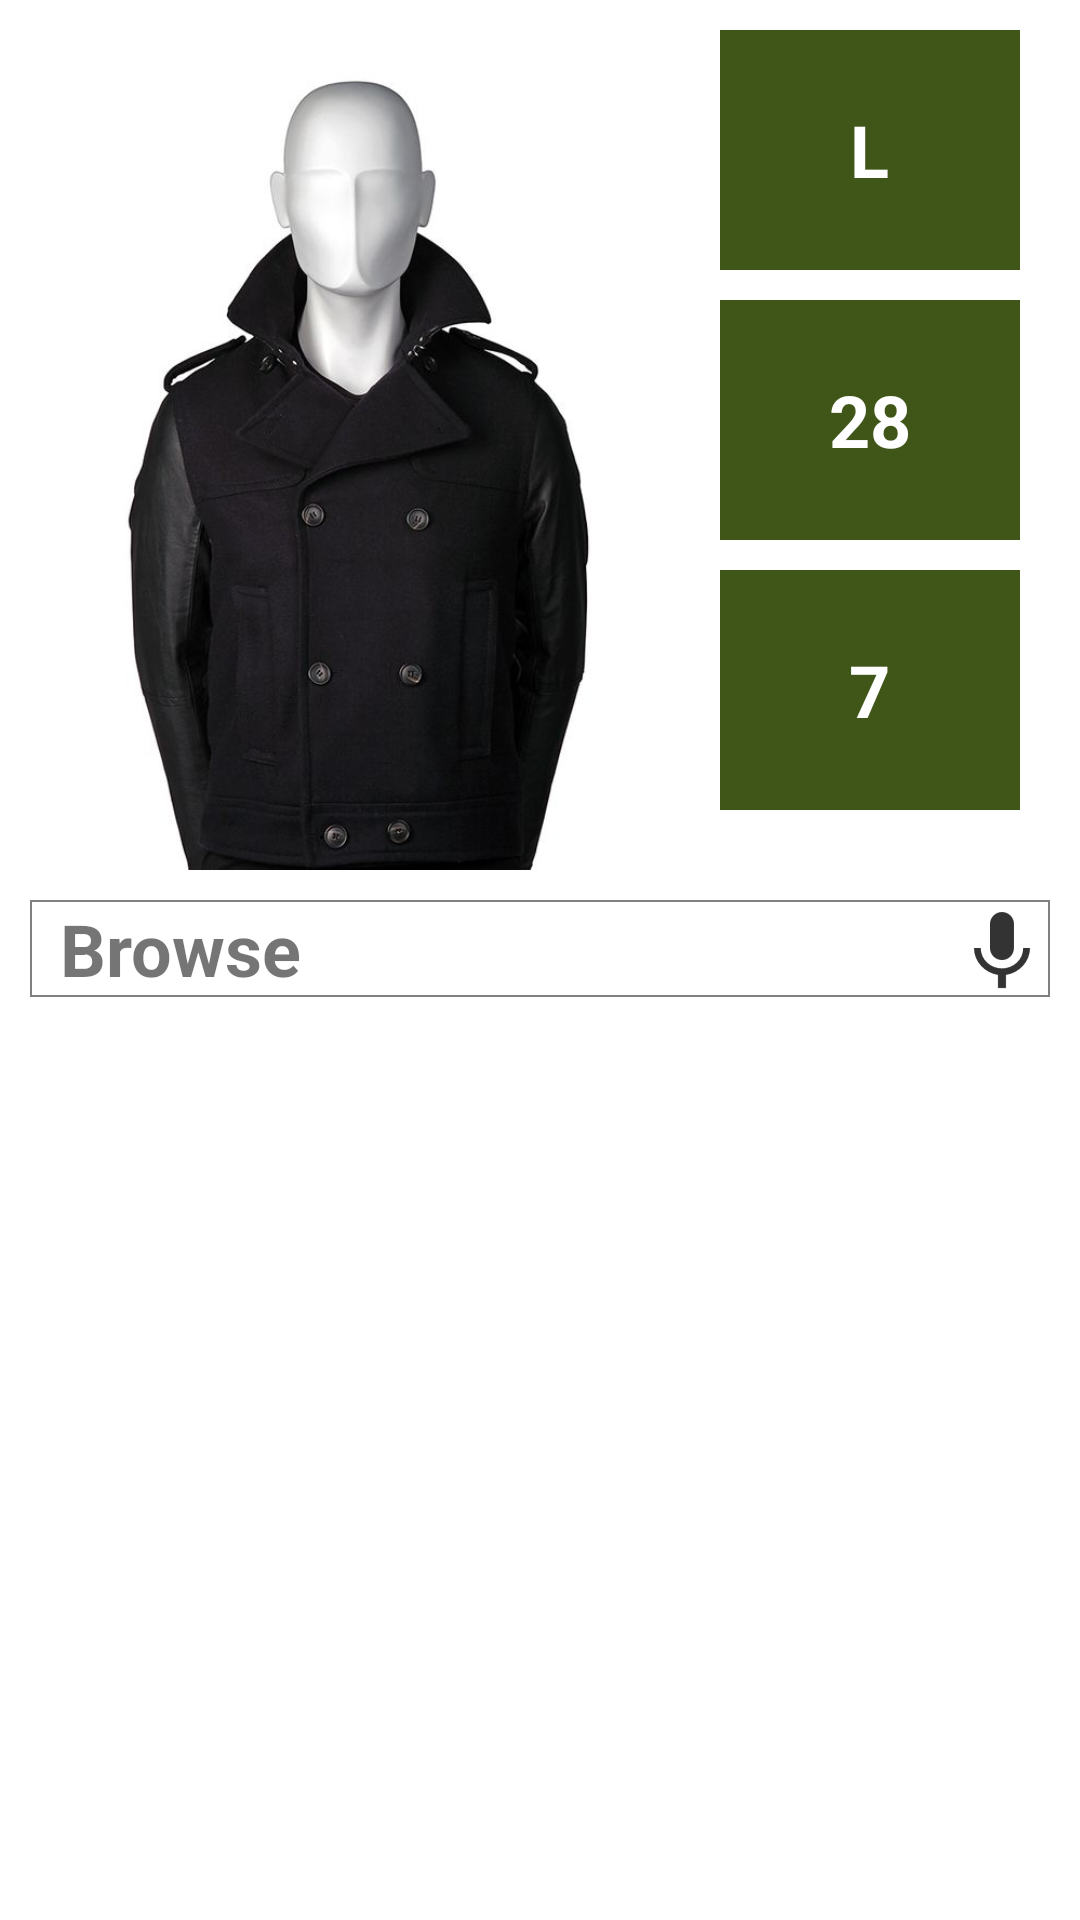

Locate icon controls on the screen. Image size 1080px×1920px, boxes as (x1, y1, x2, y2).
mike: (974, 912, 1030, 988)
